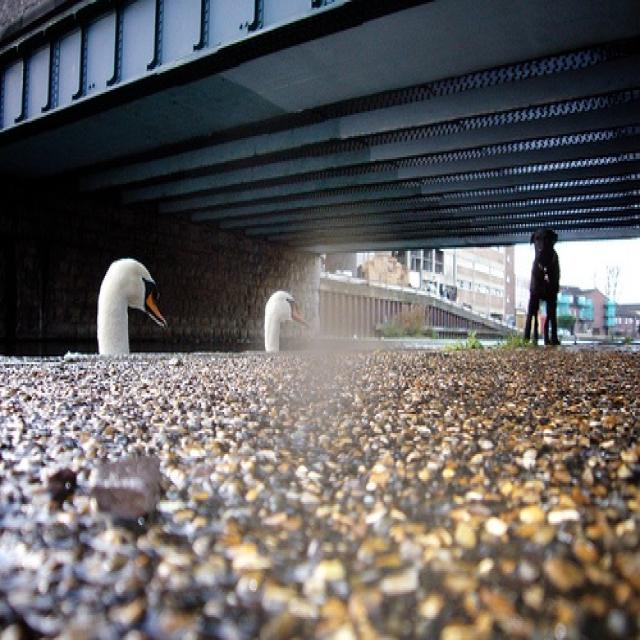bird: (96, 258, 168, 352), (264, 289, 307, 345)
dog: (523, 224, 562, 343)
